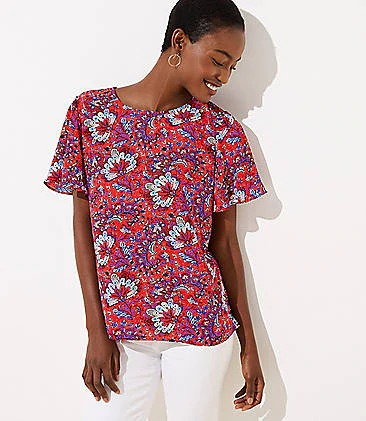C_short blouse: (55, 86, 267, 347)
